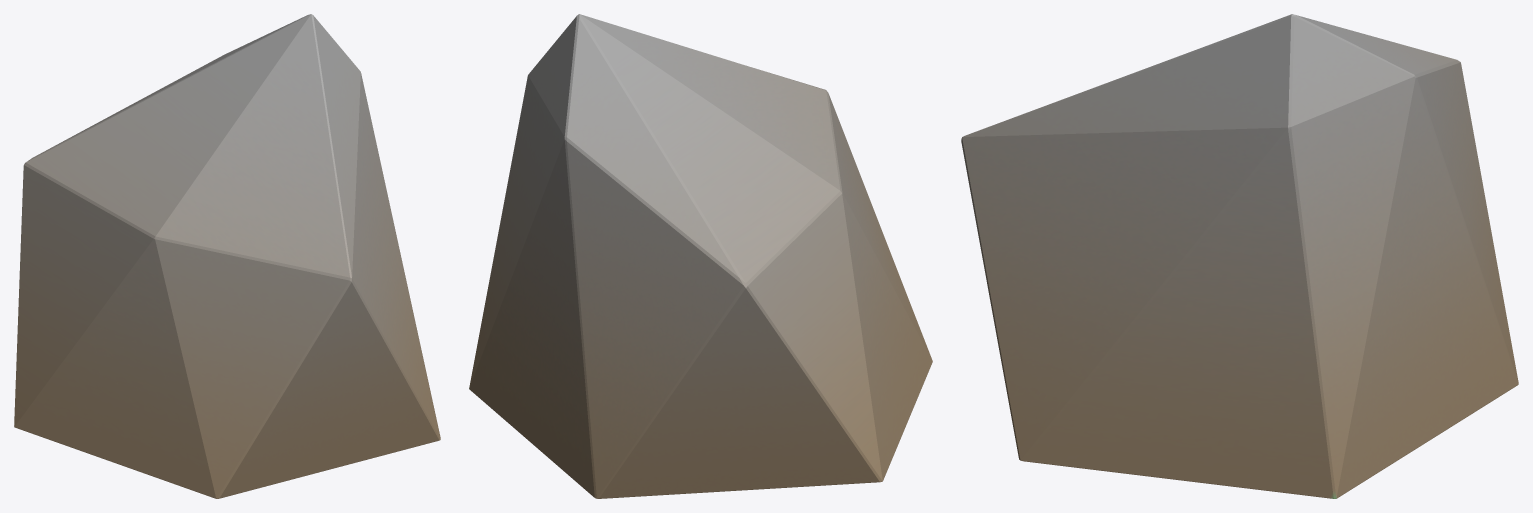
Rendered from Rock 1.fbx.
The picture shows the model from 3 angles, left to right: view 1: azimuth 30°, elevation 25°; view 2: azimuth 150°, elevation 25°; view 3: azimuth 270°, elevation 25°; orthographic projection. The views are drawn at different scales.
Visible parts, largest first — view 1: Rock001; view 2: Rock001; view 3: Rock001.
Part boxes in pixels (x1=…): Rock001: x1=14, y1=14, x2=440, y2=498; Rock001: x1=469, y1=14, x2=932, y2=498; Rock001: x1=961, y1=14, x2=1518, y2=498.
Bounding box in the file's own units: 9.22 × 8.33 × 9.69.
Materials: 1 (1 with a texture image).
